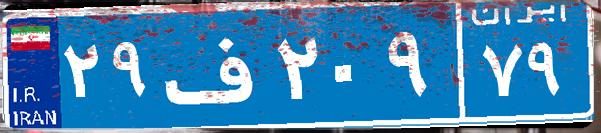0: (330, 28, 385, 110)
2: (273, 28, 330, 110), (57, 26, 110, 107)
7: (475, 38, 525, 113)
9: (385, 28, 445, 110), (110, 28, 158, 105), (525, 38, 570, 115)
ف: (158, 15, 273, 115)
